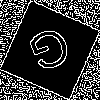G: (25, 25, 78, 82)
